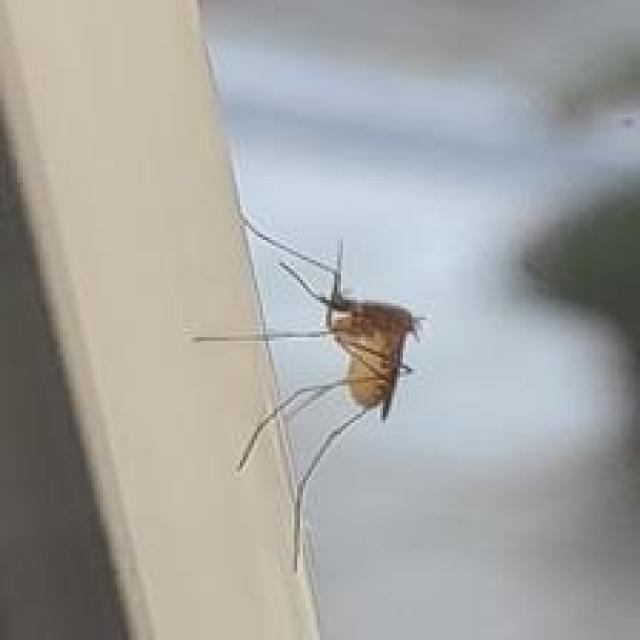Culex: (187, 207, 427, 573)
